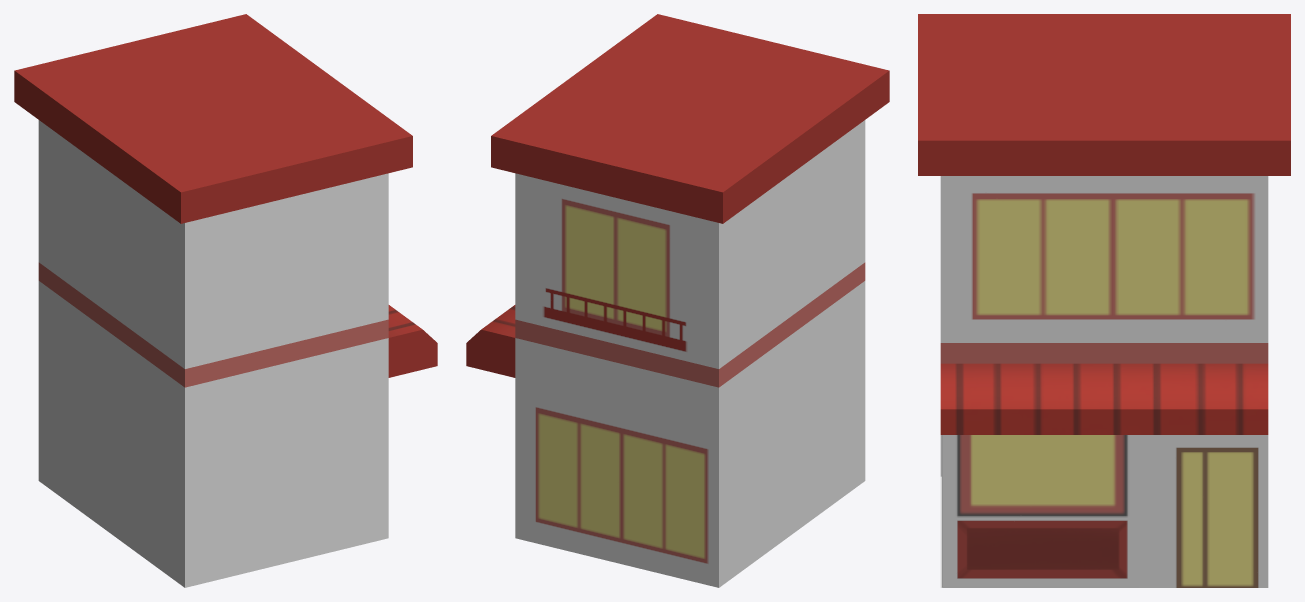
File: building7.fbx
The picture shows the model from 3 angles, left to right: view 1: azimuth 30°, elevation 25°; view 2: azimuth 150°, elevation 25°; view 3: azimuth 270°, elevation 25°; orthographic projection. The views are drawn at different scales.
Visible parts, largest first — view 1: pCube2; view 2: pCube2; view 3: pCube2.
Boxes of the visible parts, x1,y1,x2,y2 form: pCube2: (14,14,437,587); pCube2: (466,14,889,587); pCube2: (918,14,1290,587).
Bounding box in the file's own units: 156 × 227 × 169.
